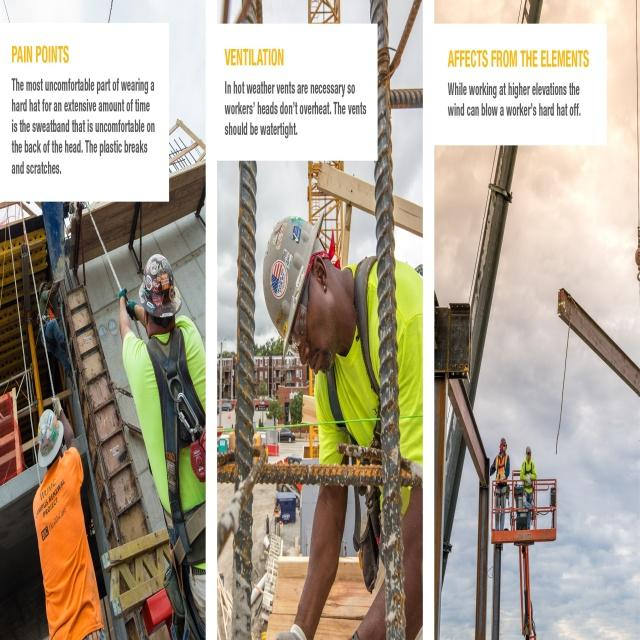helmet: (262, 286, 342, 506), (137, 336, 184, 448), (35, 543, 67, 621), (39, 373, 50, 400), (525, 594, 532, 614), (499, 582, 506, 602)
vest: (494, 605, 511, 640), (521, 615, 537, 640)
